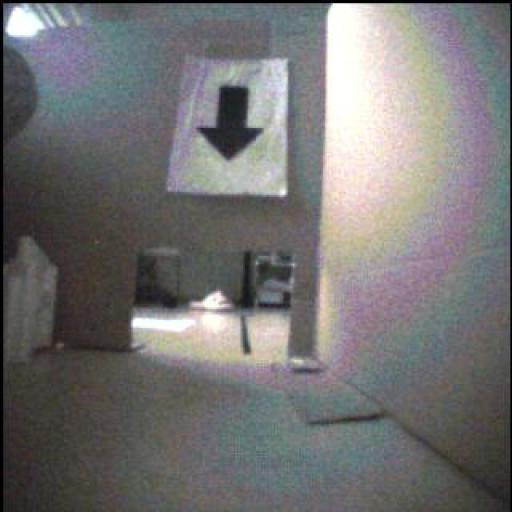arrow: (198, 87, 263, 161)
